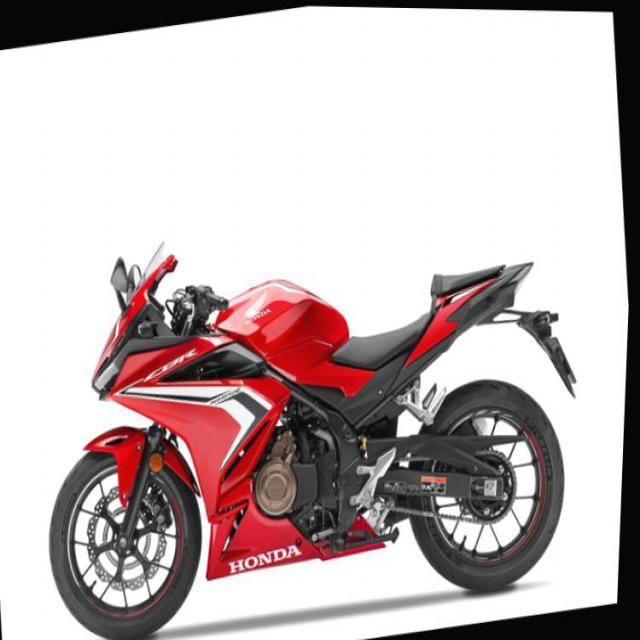CBR500R: (25, 170, 606, 639)
